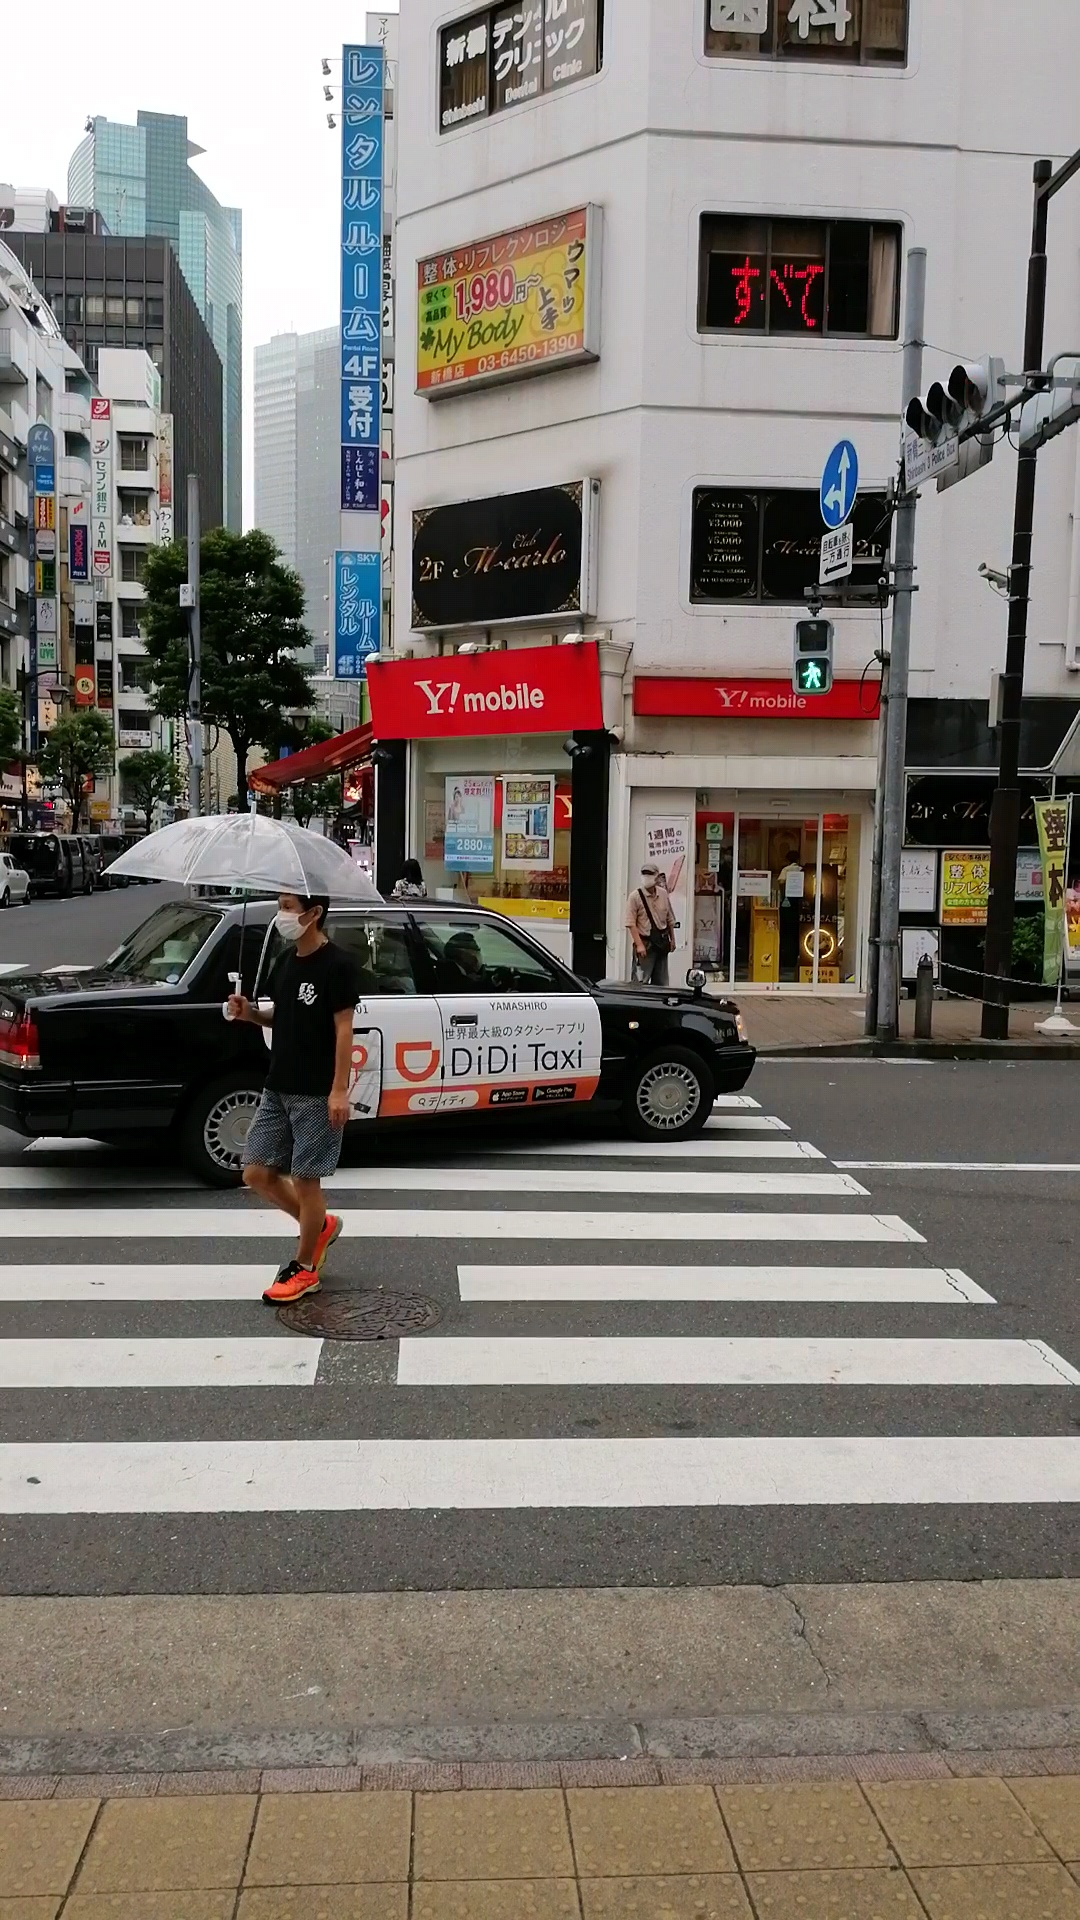green: (793, 616, 832, 694)
